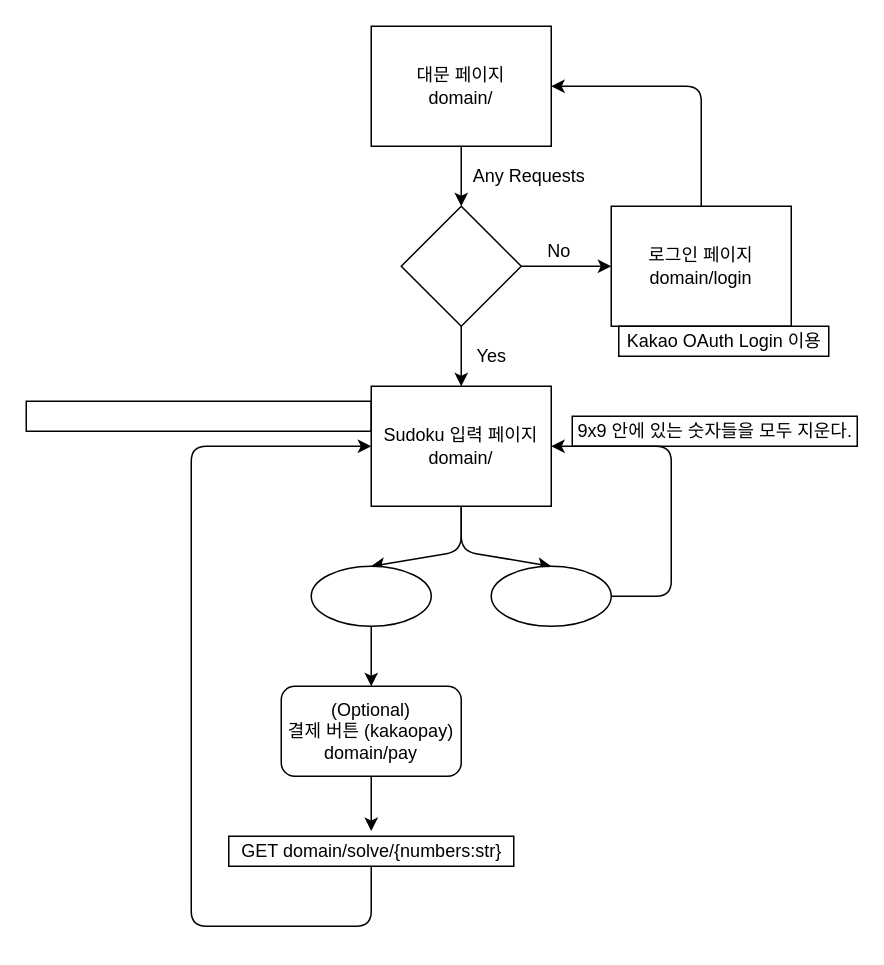
This 884x965 diagram has some shape labels left out. Each missing label, with the box of its shape:
로그인 여부: (400, 205, 521, 326)
리셋 버튼: (490, 565, 611, 626)
정답 9x9 number들을 string으로 response: (25, 400, 371, 431)
풀기 버튼: (310, 565, 431, 626)
